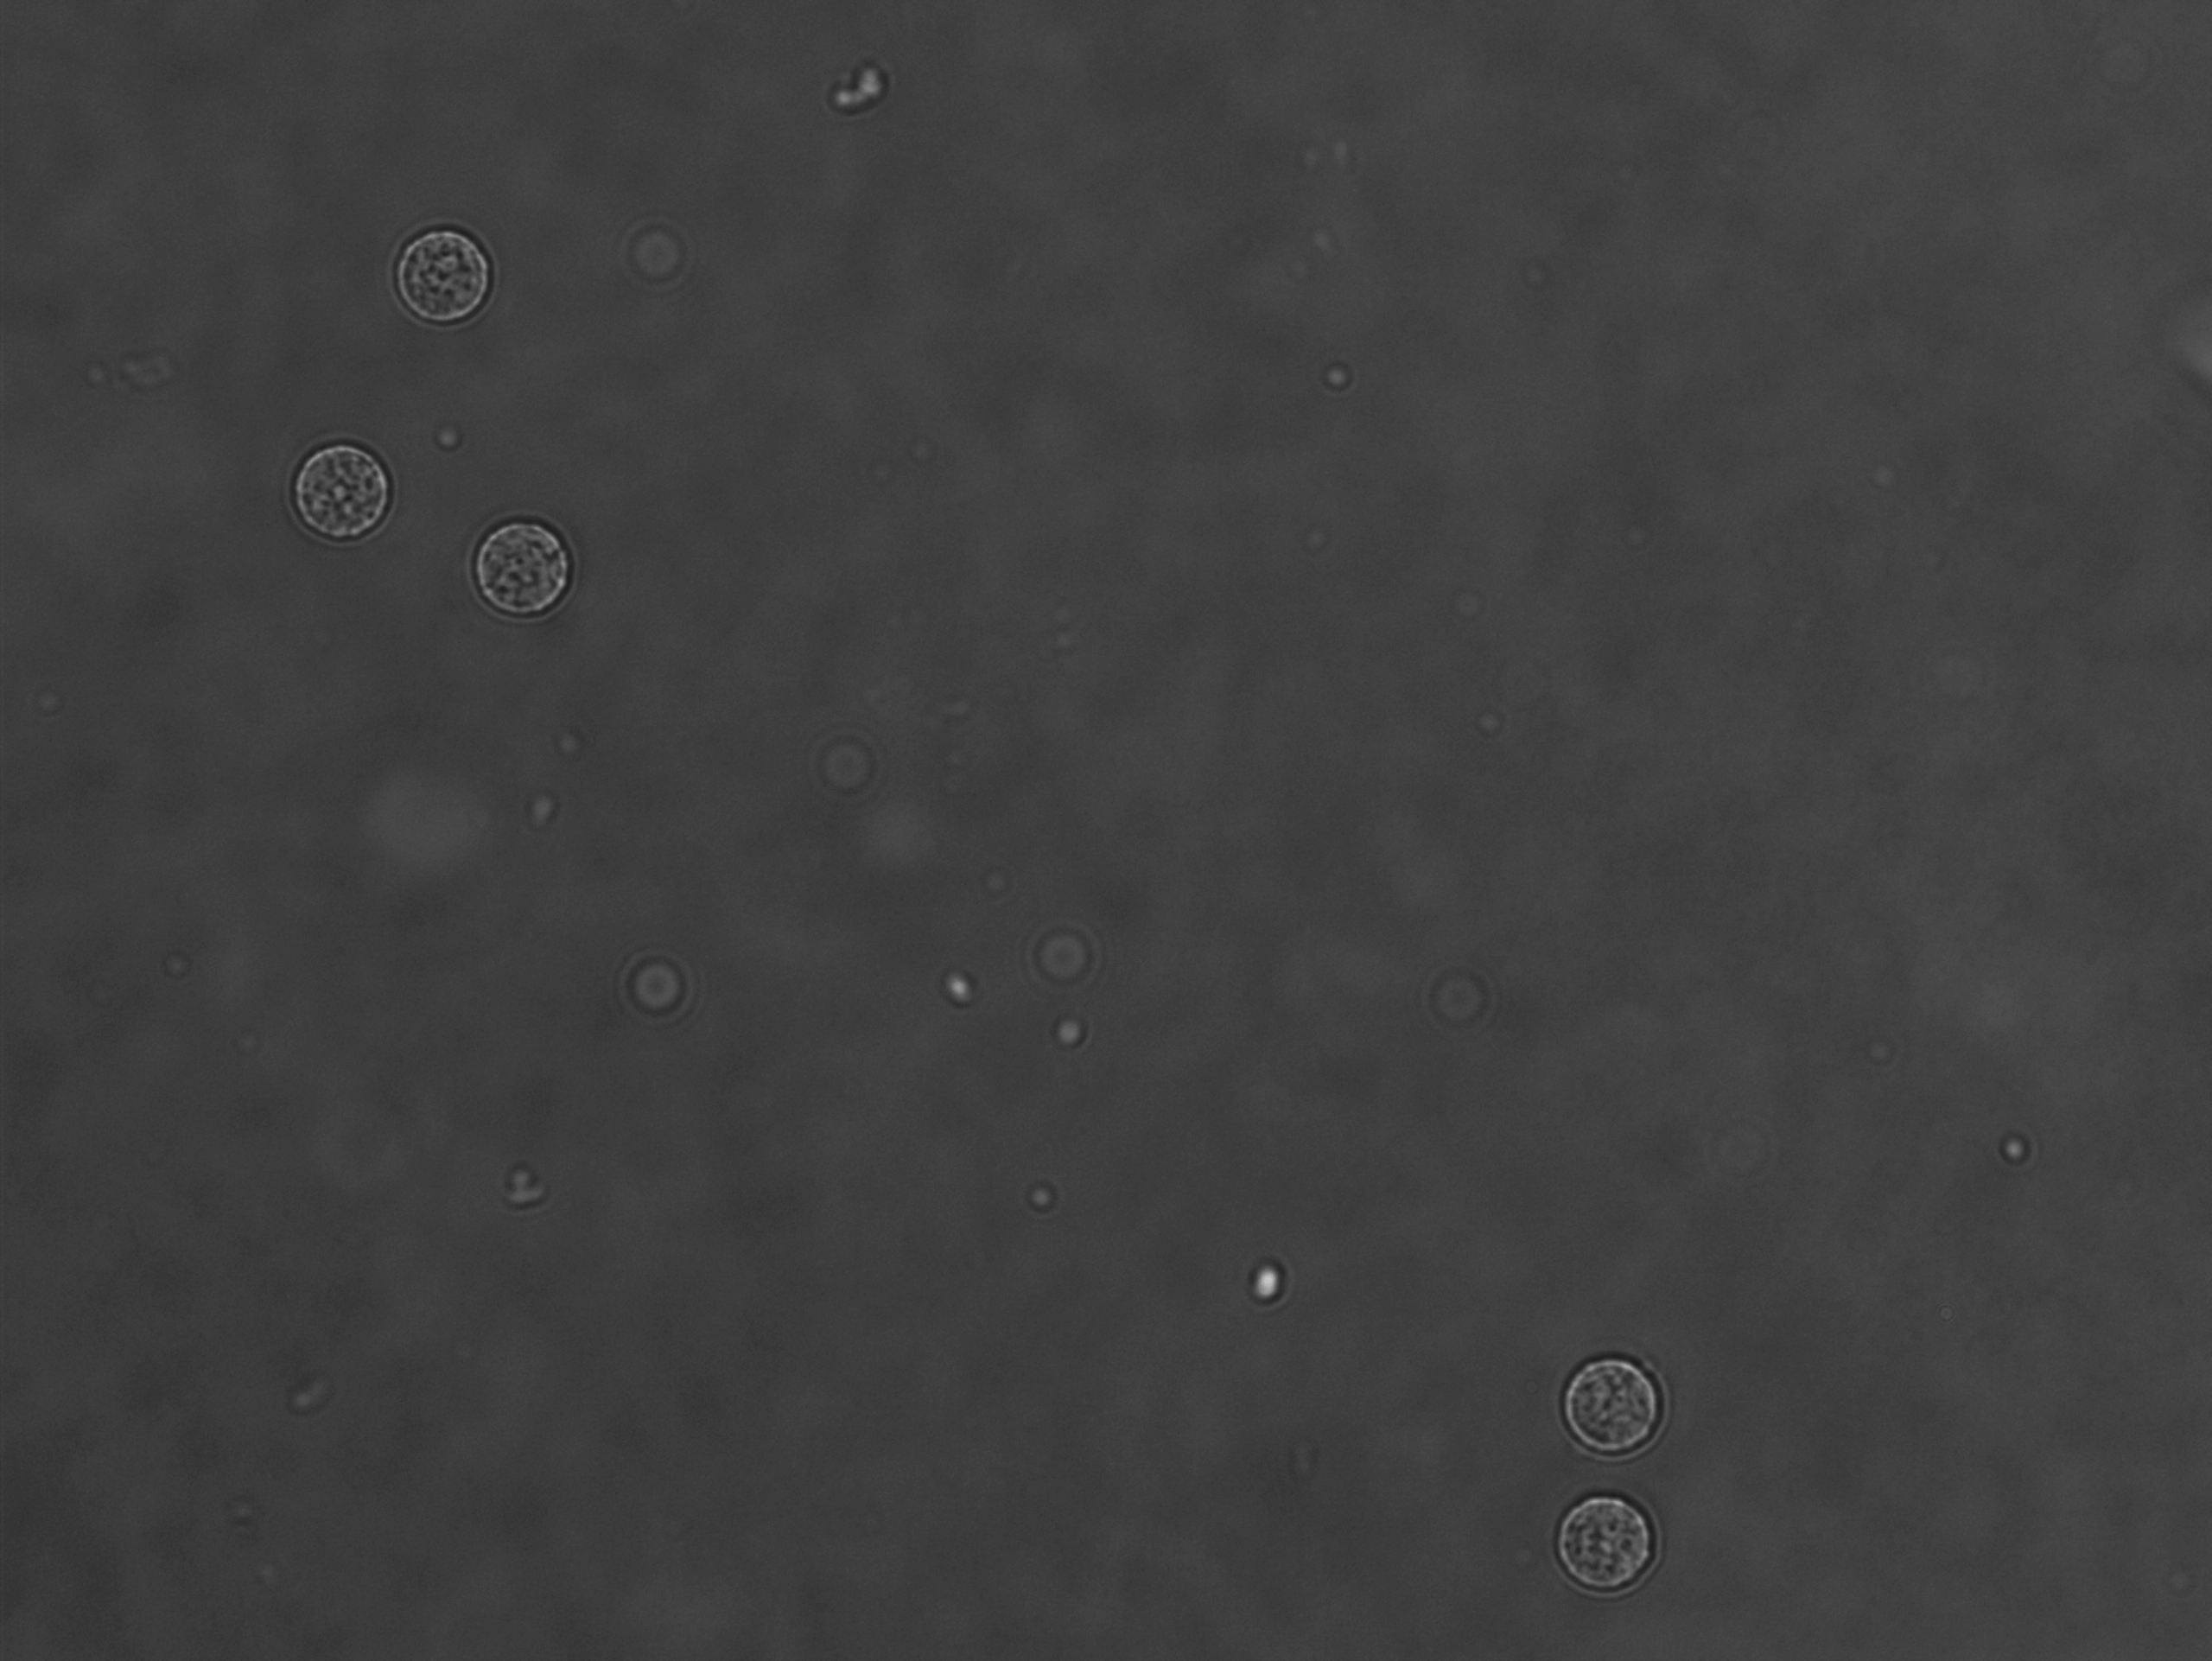depth:0: (263, 420, 415, 562), (1537, 1466, 1692, 1600), (1551, 1335, 1696, 1466), (454, 509, 593, 635), (382, 206, 508, 340)
